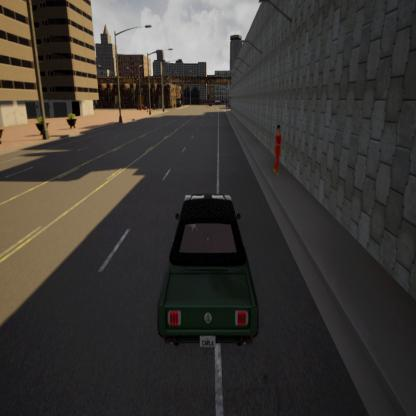Cars: (151, 175, 266, 364)
Pedestrian: (261, 111, 291, 186)
